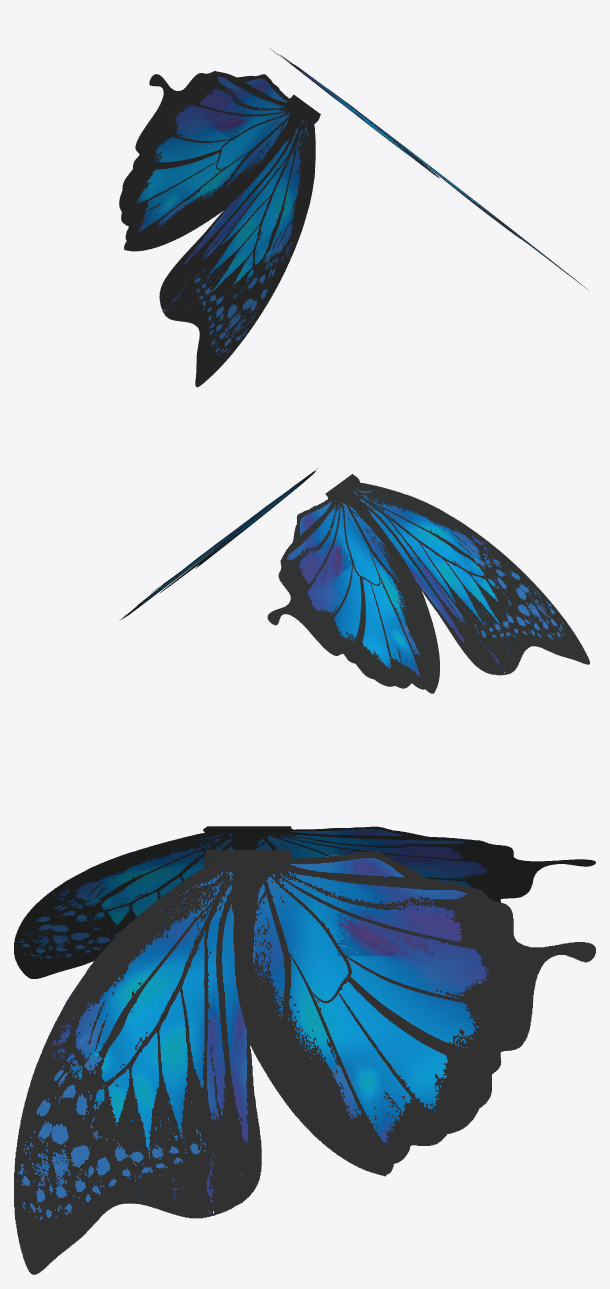
Rendered from wings1.glb.
3 views of the same model, one above another, from view 1: azimuth 30°, elevation 25°; view 2: azimuth 150°, elevation 25°; view 3: azimuth 270°, elevation 25° (orthographic). The views are drawn at different scales.
Visible parts, largest first — view 1: image.001; view 2: image.001; view 3: image.001.
Boxes of the visible parts, <box> form: image.001: <box>119,49,588,387</box>; image.001: <box>119,468,589,693</box>; image.001: <box>14,826,595,1274</box>.
Bounding box in the file's own units: 1.04 × 0.4725 × 0.8636.
1 material, 1 textured.
